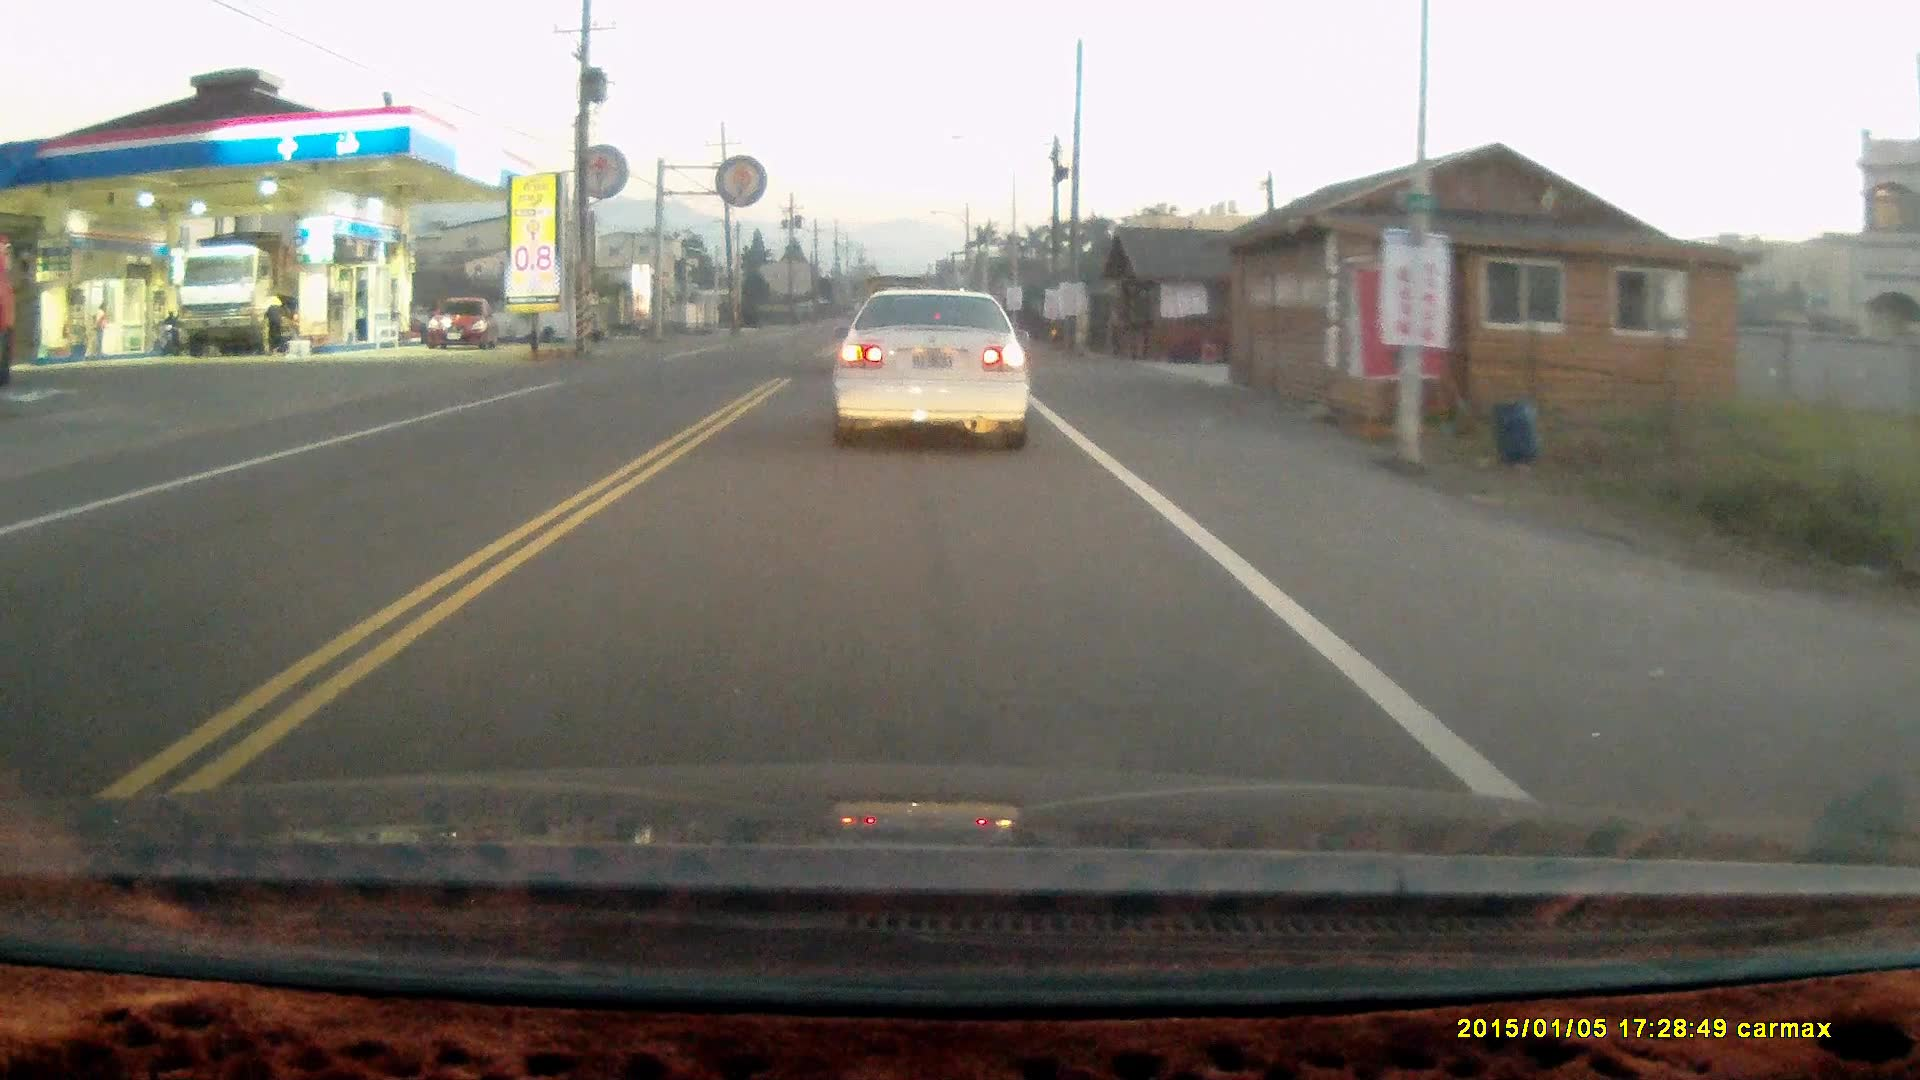pedestrian: (257, 286, 284, 353)
vehicle: (829, 281, 1036, 452), (175, 237, 296, 356), (427, 300, 504, 354)
